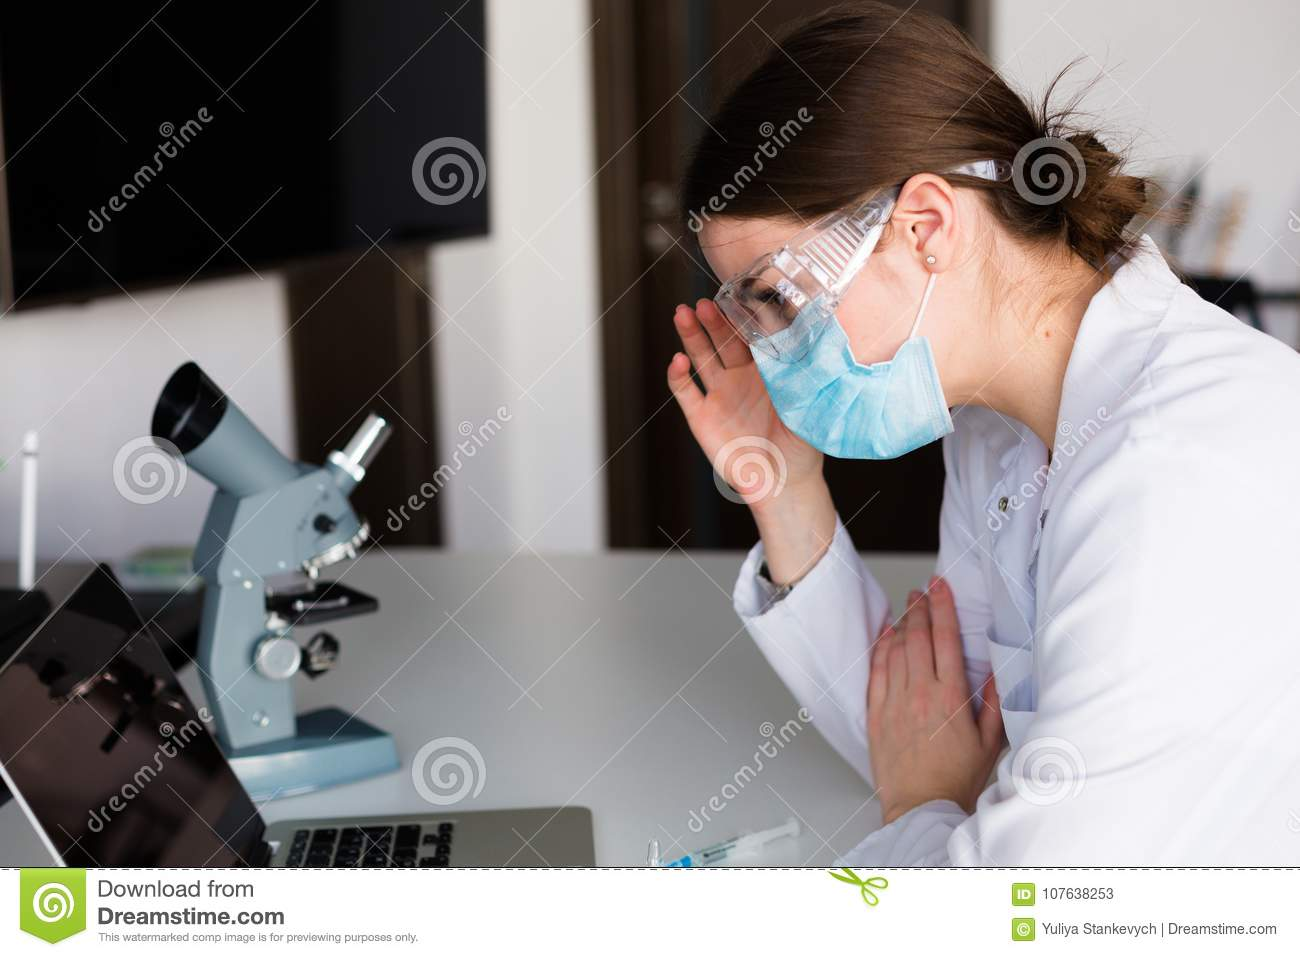mask: (744, 313, 939, 482)
